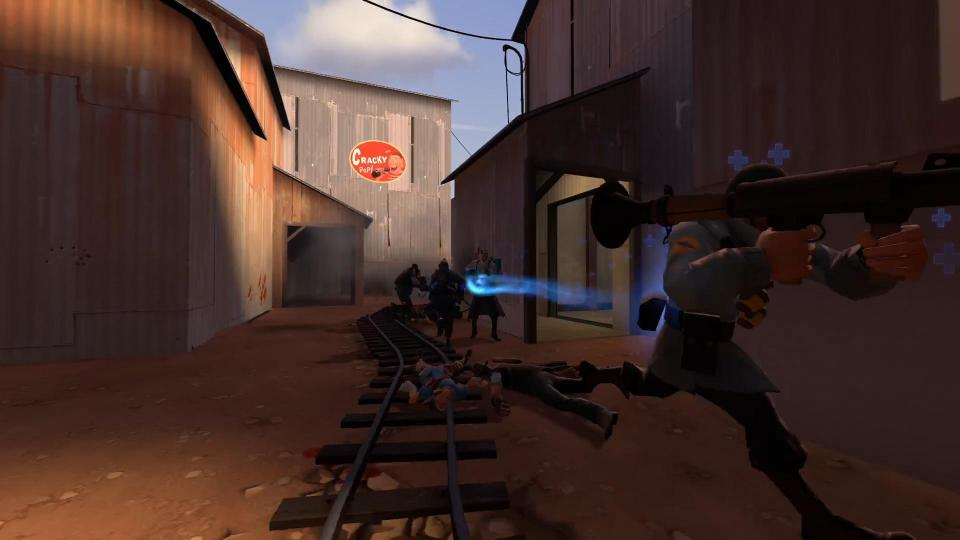Enemy: (581, 139, 960, 540), (473, 342, 640, 446), (399, 345, 499, 411), (418, 255, 469, 347), (463, 249, 506, 343), (389, 263, 430, 324)
